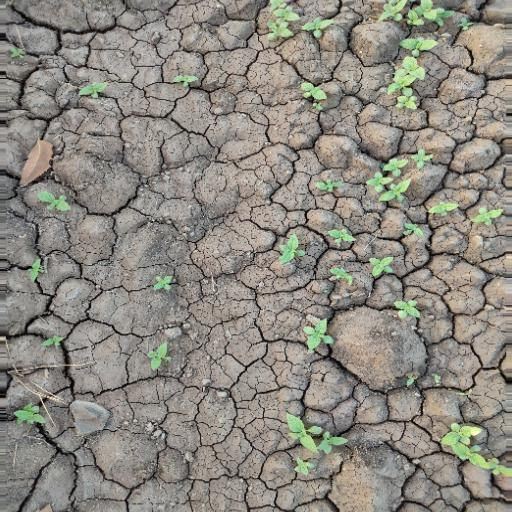crop: (273, 409, 355, 489), (432, 406, 512, 482), (361, 143, 434, 211), (383, 36, 440, 118), (426, 193, 506, 236), (298, 316, 346, 359), (296, 76, 331, 115), (274, 232, 308, 269), (35, 187, 74, 216), (140, 341, 174, 373), (75, 75, 110, 104), (390, 295, 427, 322), (150, 269, 181, 298), (324, 224, 358, 250), (324, 263, 358, 287), (366, 252, 396, 279)
